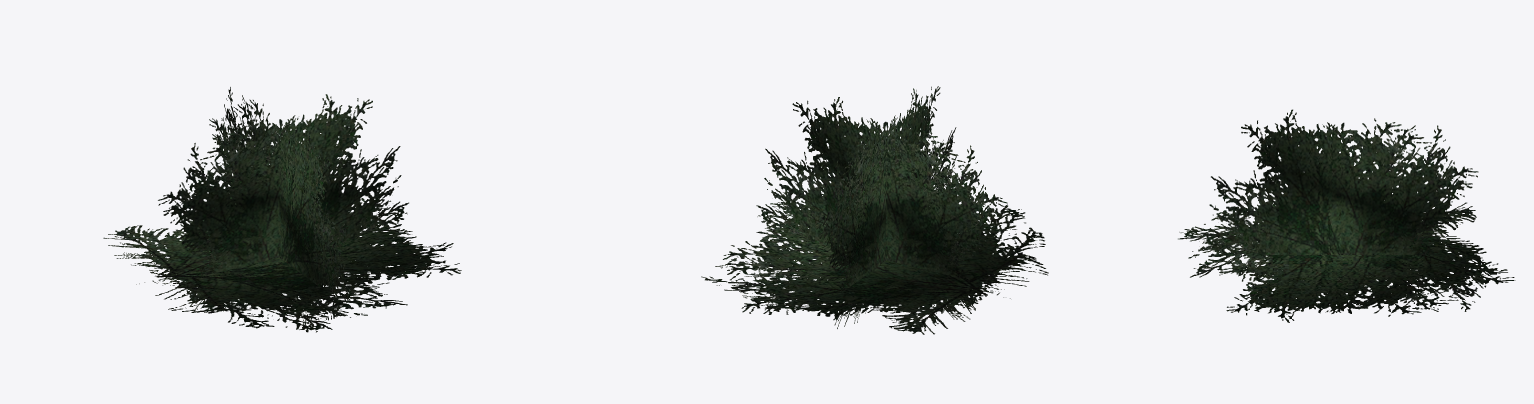
File: shrb_pinebush_med_l1.fbx
3 renders of one model, left to right at view 1: azimuth 30°, elevation 25°; view 2: azimuth 150°, elevation 25°; view 3: azimuth 270°, elevation 25°, orthographic. The views are drawn at different scales.
Visible parts, largest first — view 1: mesh_node; view 2: mesh_node; view 3: mesh_node.
Part boxes in pixels (x1,y1,x2,y2): mesh_node: (103,87,461,332); mesh_node: (701,86,1048,334); mesh_node: (1178,109,1515,322).
Size of the model in its own units: 2.97 by 2.04 by 2.48.
1 material, 1 textured.
